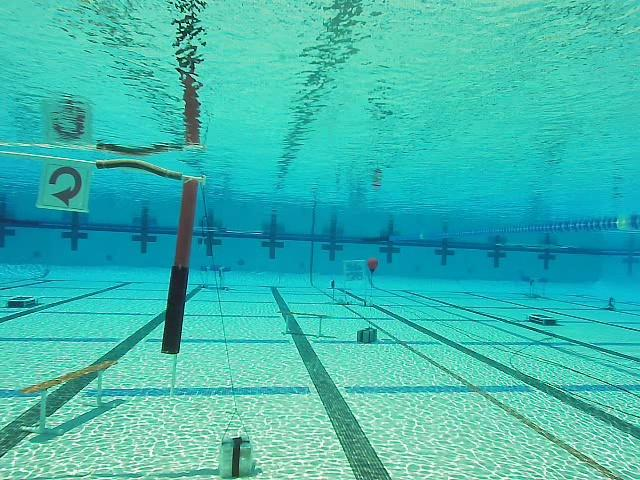buoy: (367, 258, 378, 274)
dropper: (3, 292, 42, 311), (524, 311, 560, 326)
gate_leg_r: (161, 177, 199, 354)
gate_red: (40, 161, 92, 212)
table: (196, 263, 229, 291)
torpedo: (342, 259, 366, 282)
